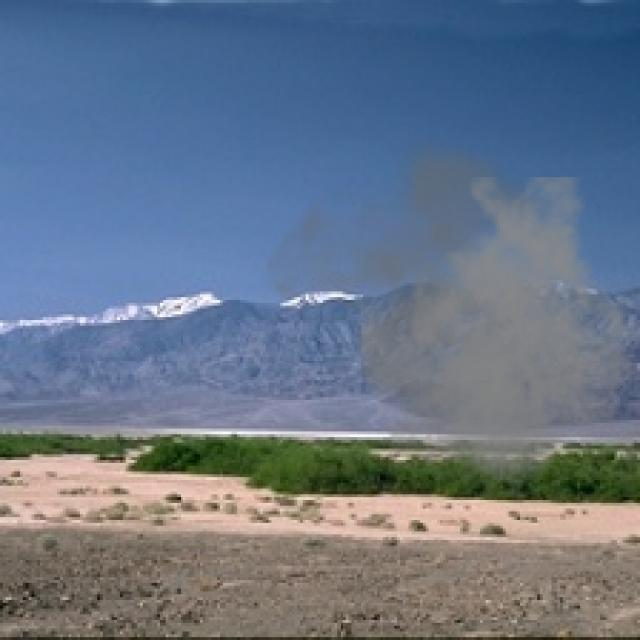Smoke: (257, 132, 637, 508)
